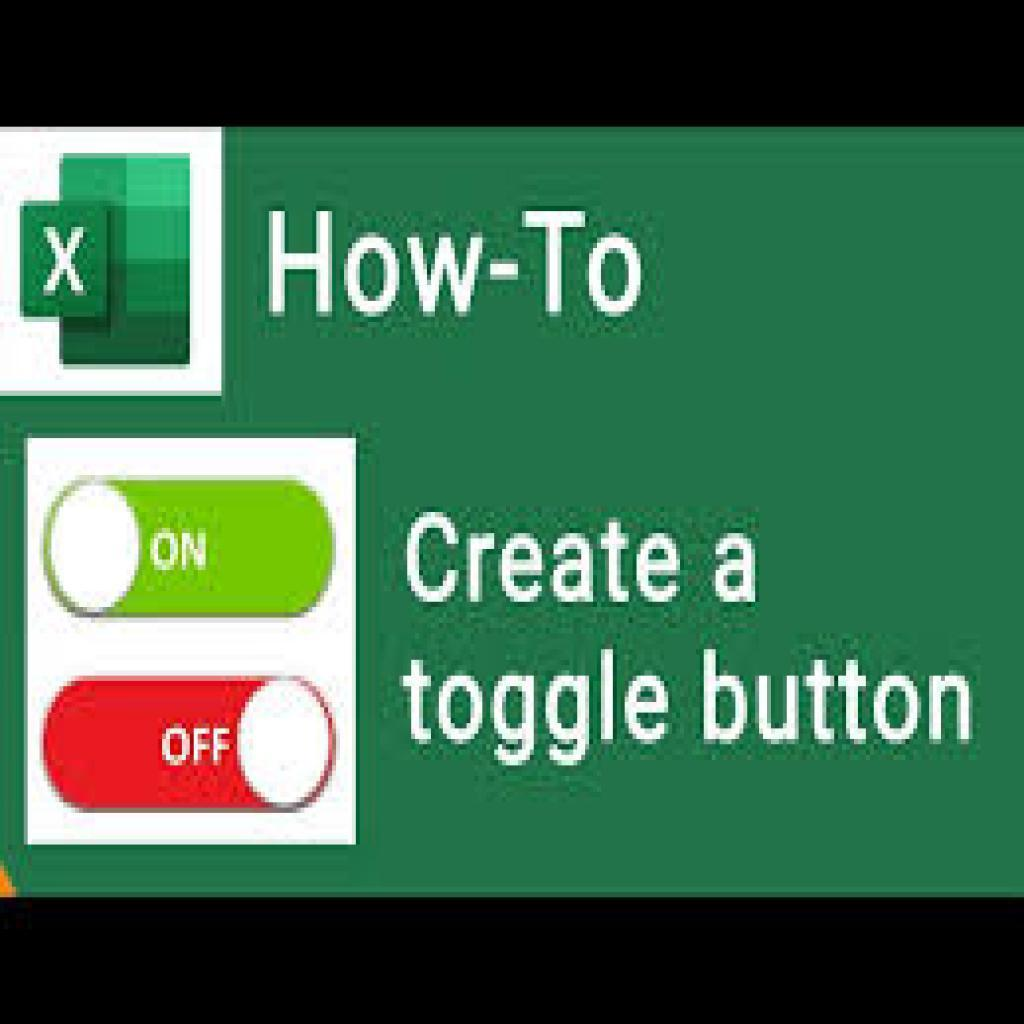switch: (36, 668, 346, 818), (45, 468, 341, 624)
